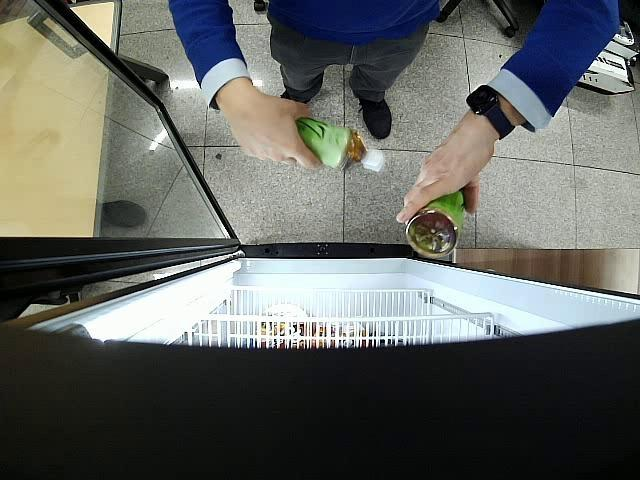19_17cha: (296, 117, 384, 173), (405, 190, 464, 259)
